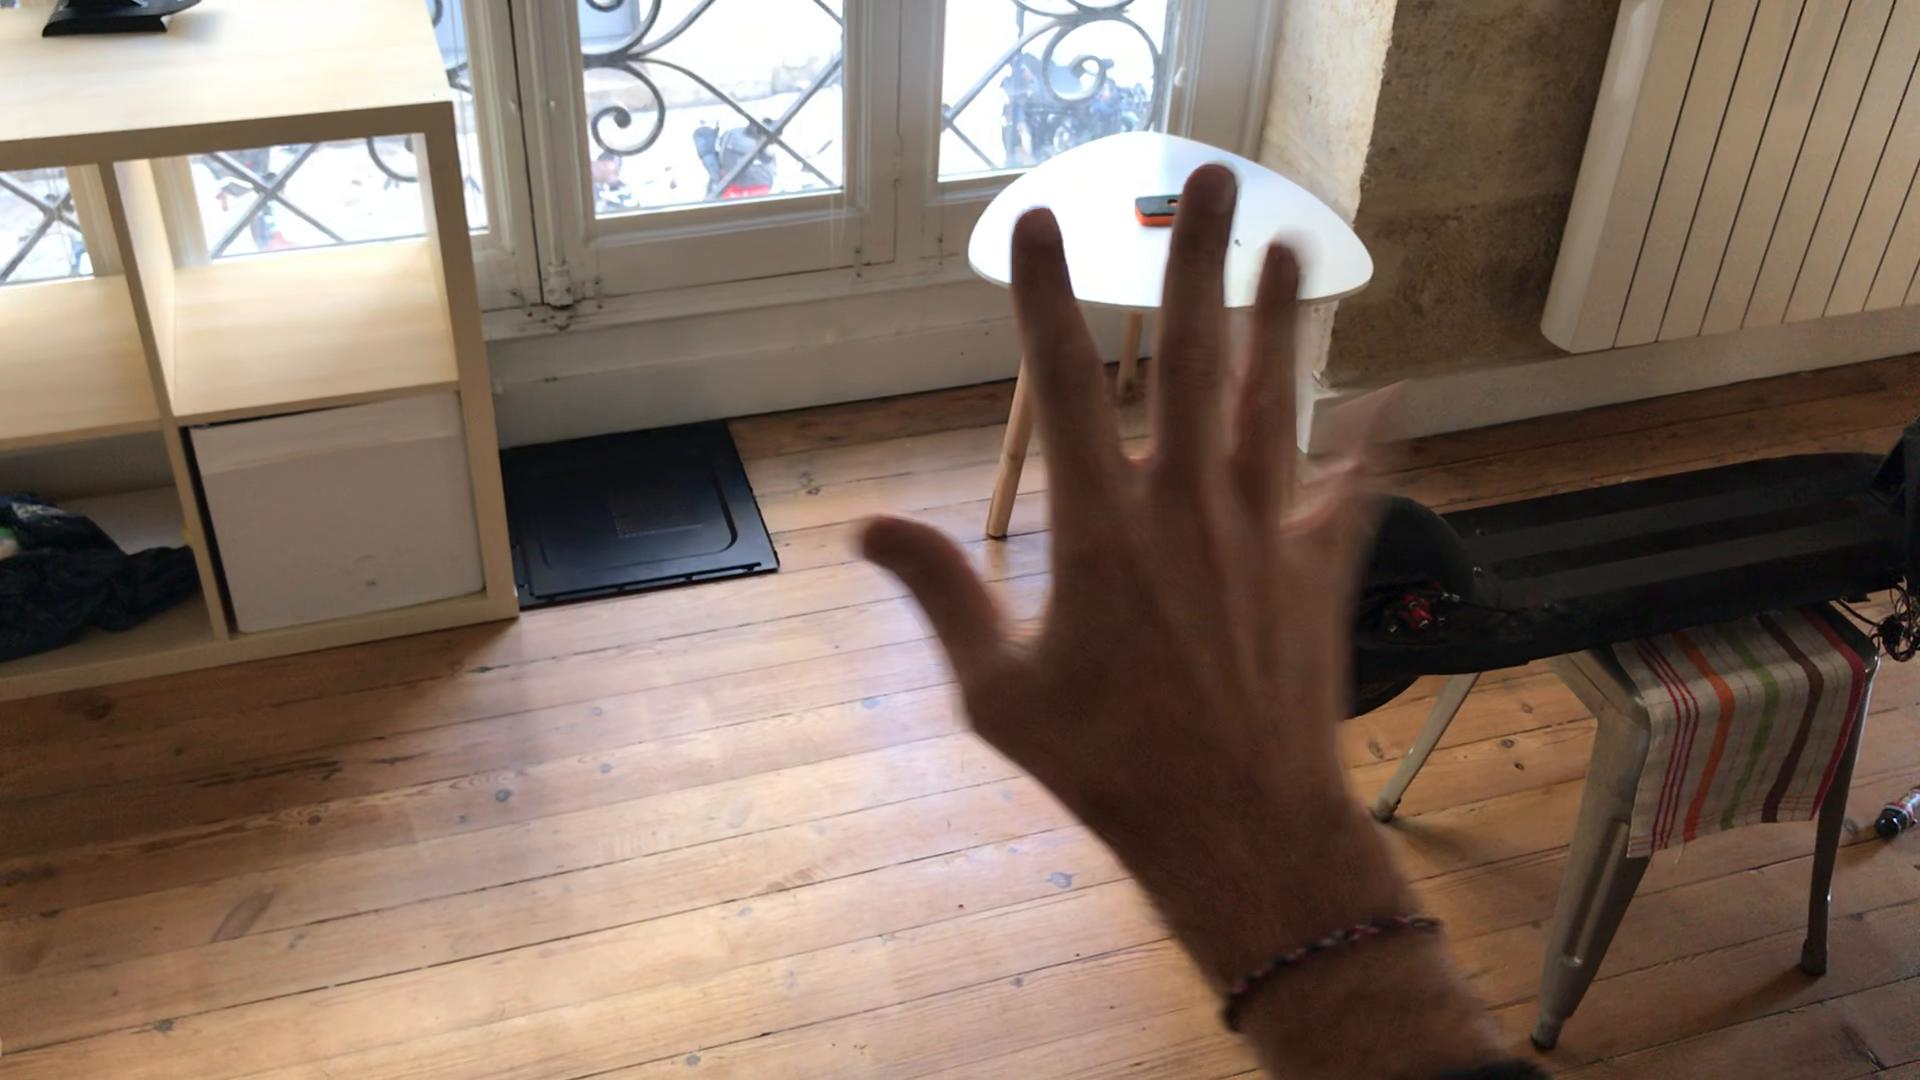hand: (851, 158, 1413, 804)
